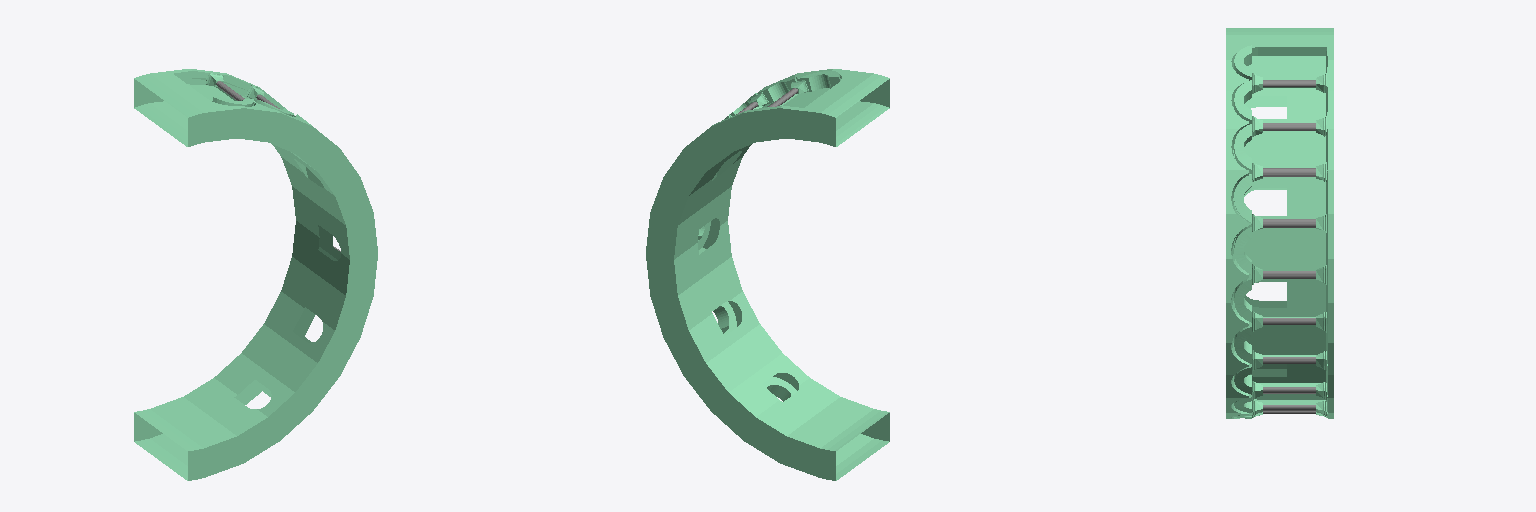
The model's file is ArcHall.obj.
The picture shows the model from 3 angles: view 1: azimuth 30°, elevation 25°; view 2: azimuth 150°, elevation 25°; view 3: azimuth 270°, elevation 25°; orthographic projection.
Bounding box in the file's own units: 4432 × 8134 × 2179.